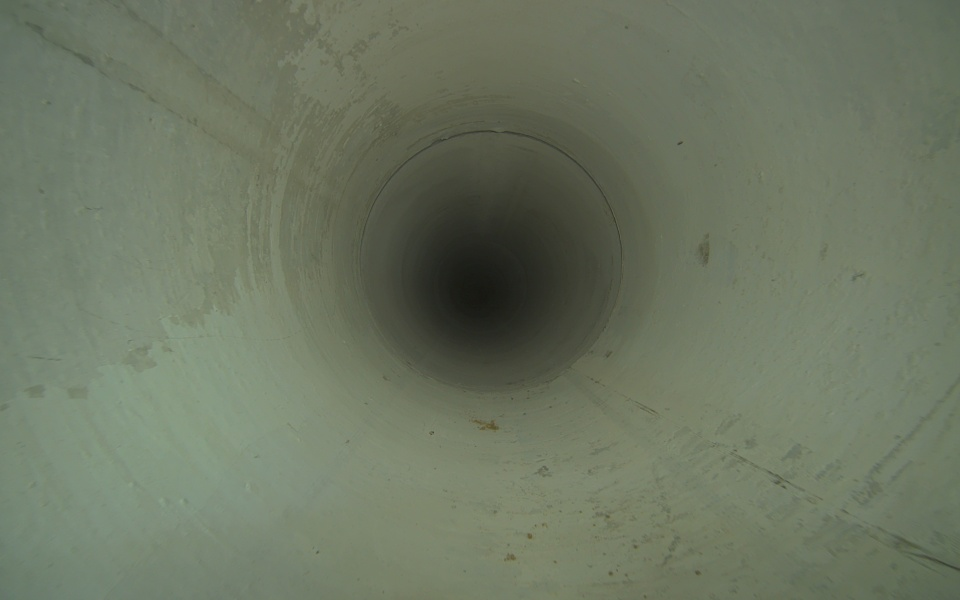circle1: (356, 127, 627, 398)
circle2: (459, 267, 499, 310)
